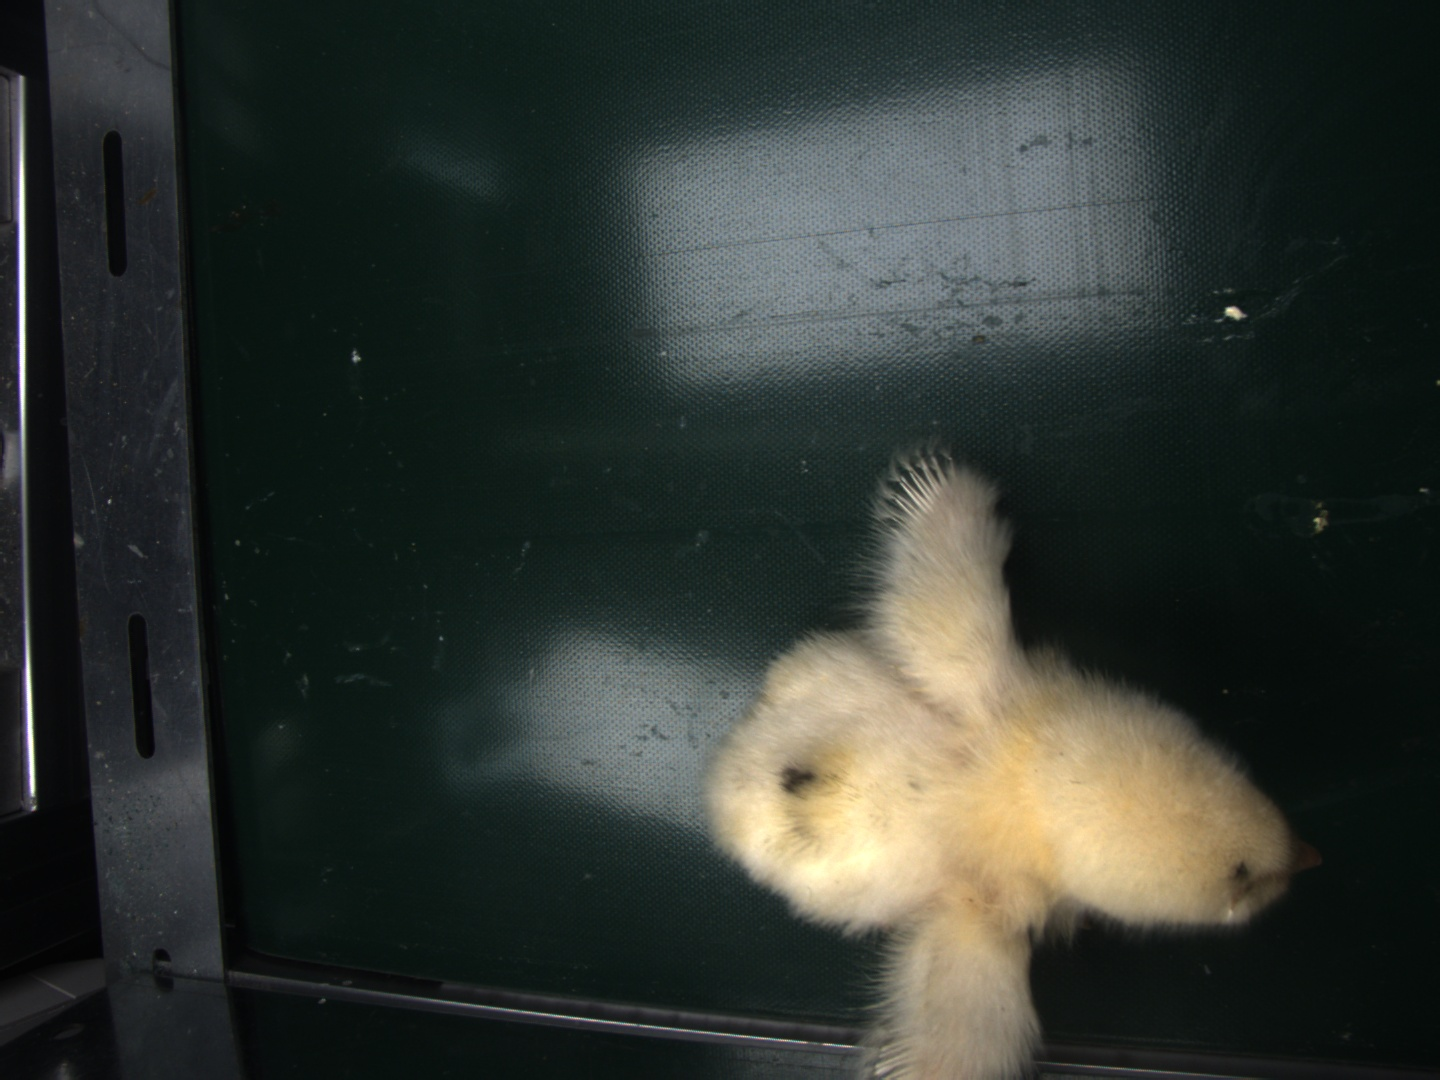male: (886, 452, 951, 526), (874, 1033, 923, 1080)
